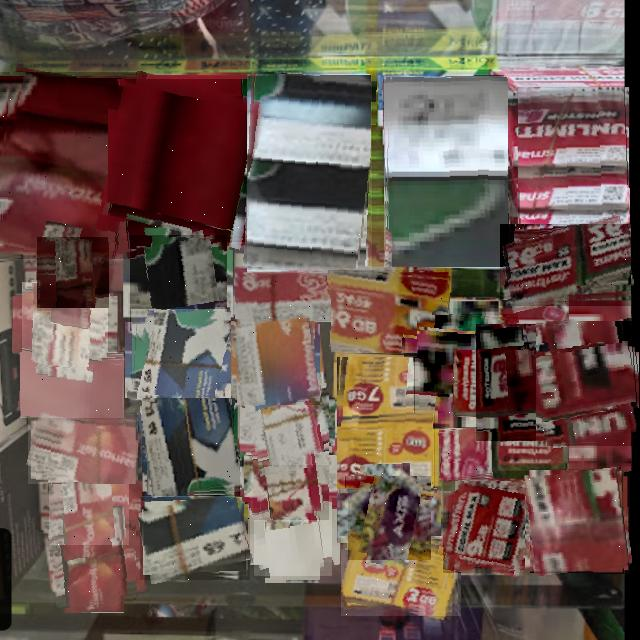Axis: (417, 314, 518, 413), (348, 476, 431, 560)
Gratis Nelpon: (248, 74, 376, 273), (384, 76, 508, 267), (131, 309, 231, 411), (142, 398, 240, 496), (130, 235, 227, 331), (140, 497, 250, 580)
Indosat-3: (231, 316, 320, 405), (246, 383, 329, 465), (254, 497, 332, 576), (253, 442, 329, 520), (235, 269, 339, 322)
Telkomsel: (108, 79, 270, 242), (0, 72, 137, 259), (28, 414, 138, 484), (50, 520, 136, 606), (22, 282, 108, 367), (20, 352, 124, 418), (49, 466, 129, 545), (37, 237, 109, 308)
im3: (338, 357, 438, 488), (331, 270, 450, 353), (341, 536, 461, 616)
smartfren: (518, 87, 630, 232), (476, 324, 594, 441), (536, 321, 640, 446), (525, 469, 630, 574), (500, 224, 631, 306), (443, 481, 535, 573), (439, 428, 492, 480)
